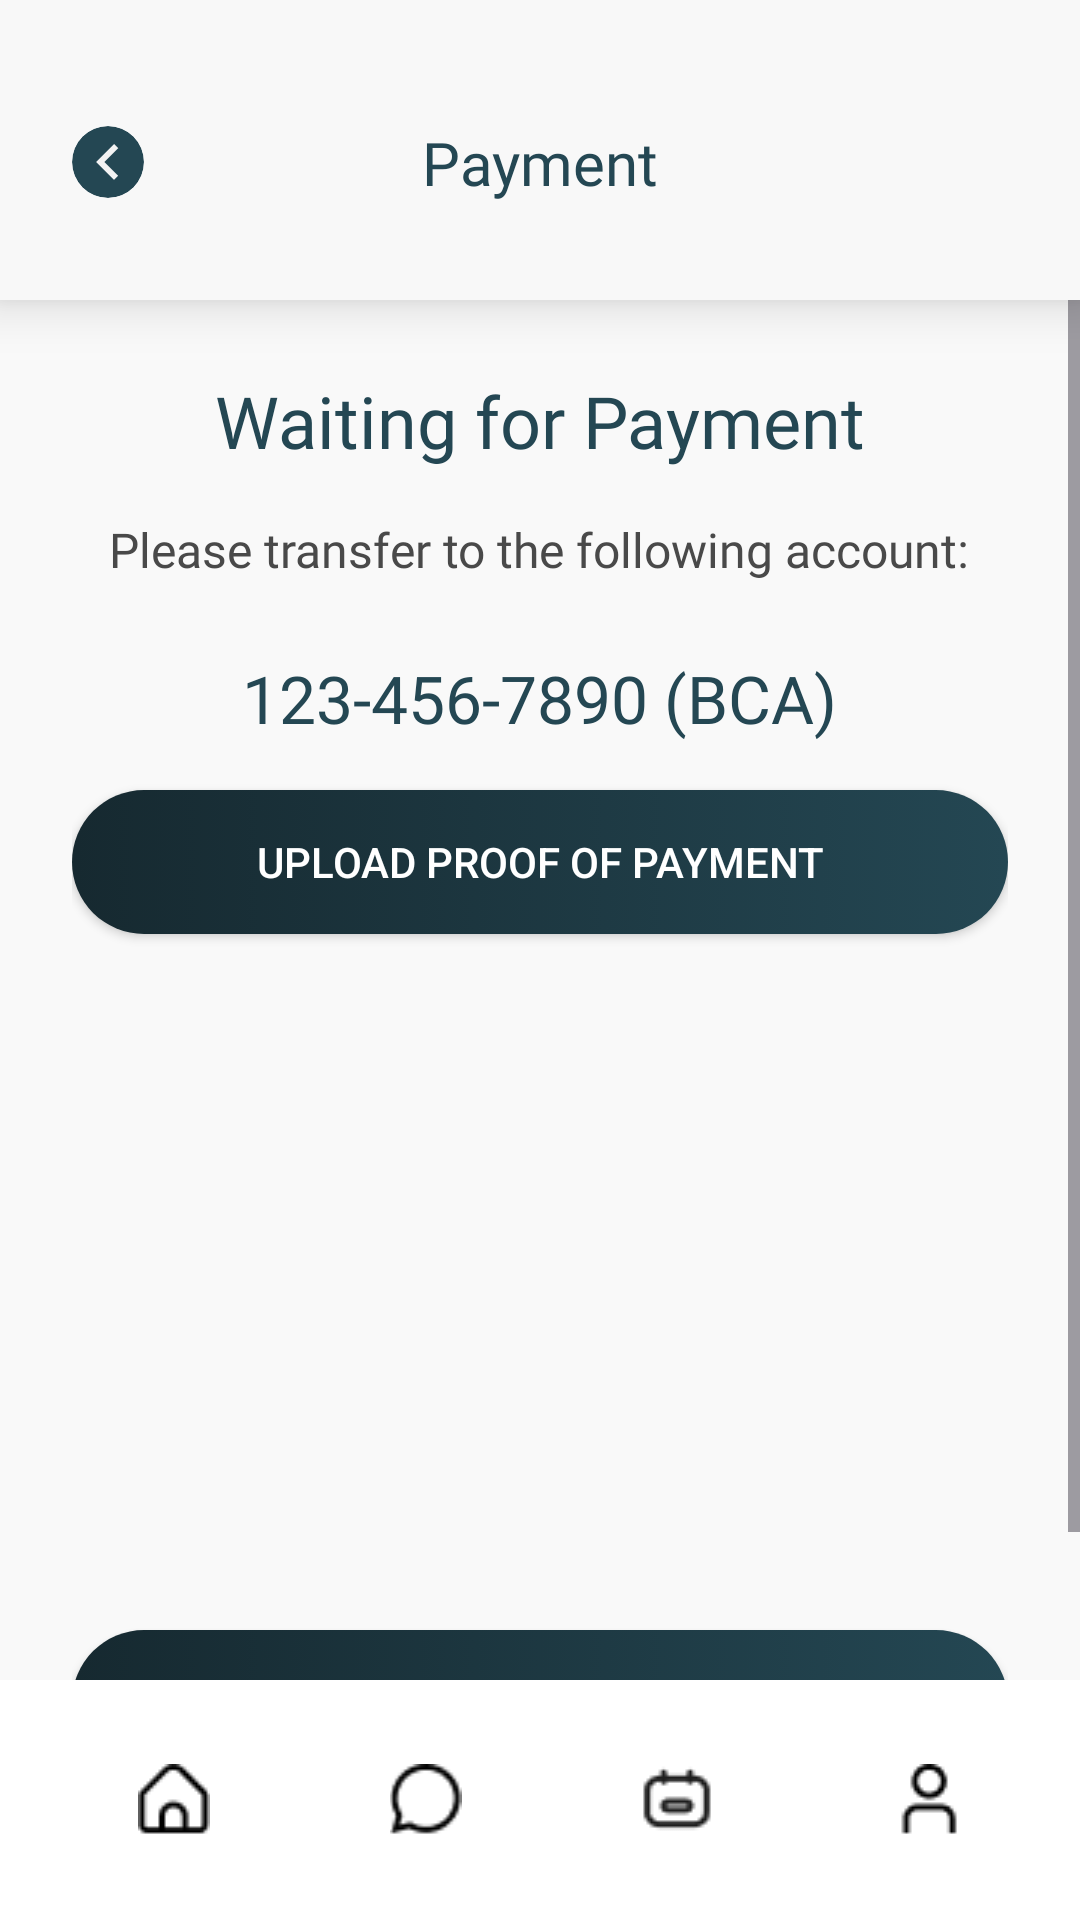

Icon bounding boxes for this 1080px x 1920px phone screenshot, format (x1, y1, x2, y2):
activity: (643, 1769, 711, 1829)
home: (138, 1764, 210, 1834)
inbox: (390, 1764, 462, 1834)
profile: (901, 1764, 957, 1834)
